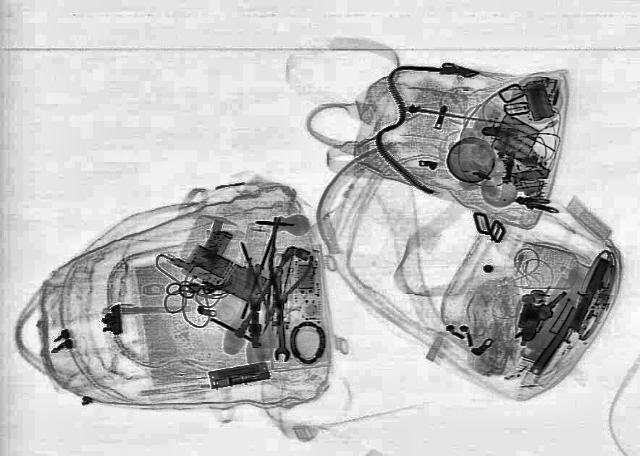Pliers: (234, 241, 312, 335)
Wrench: (266, 266, 292, 360)
